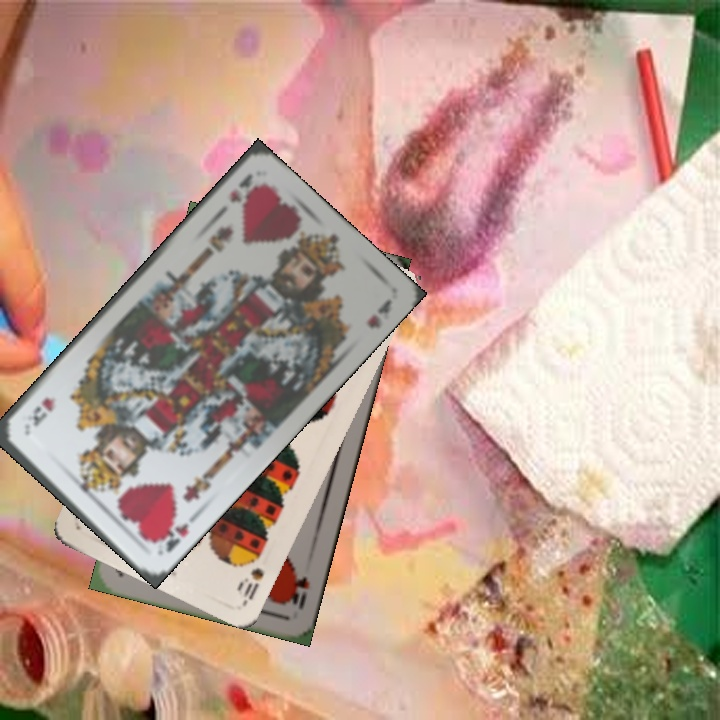HK: (213, 169, 260, 215), (150, 510, 198, 555)
HO: (284, 567, 313, 612)
S10: (234, 563, 266, 605)
